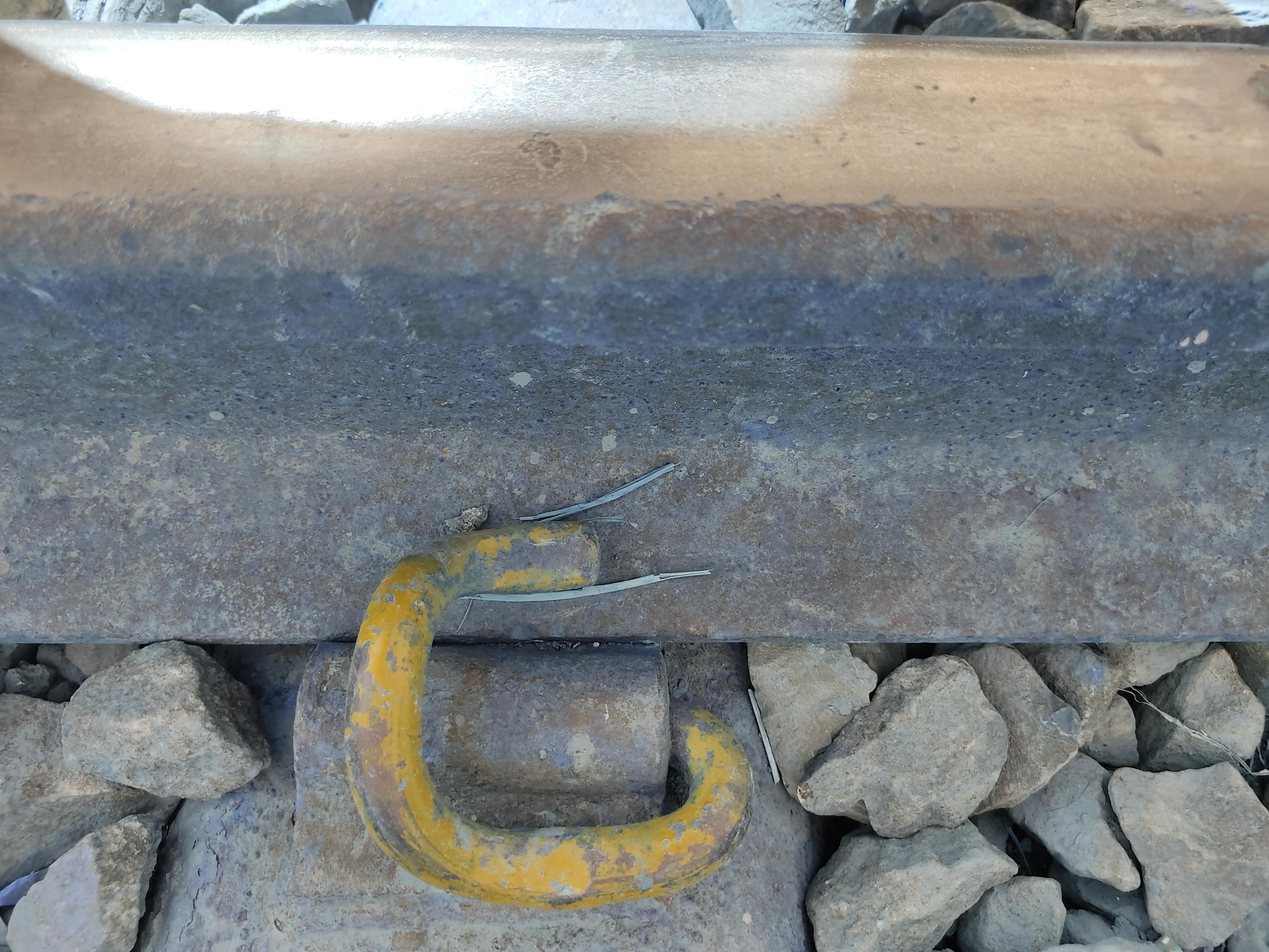Poor contact: (272, 473, 780, 901)
